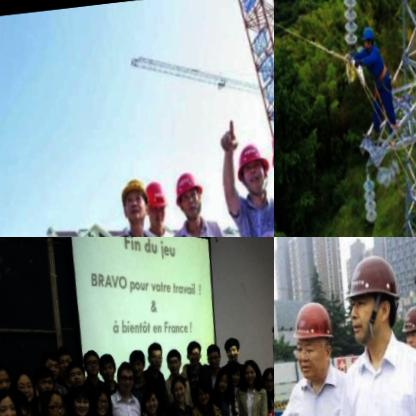head: (12, 366, 39, 404), (67, 380, 92, 416), (114, 359, 140, 392), (42, 385, 69, 416), (41, 349, 65, 383), (90, 382, 113, 416), (32, 362, 57, 393), (65, 358, 89, 390), (146, 338, 166, 372), (8, 387, 31, 416), (81, 348, 102, 379), (98, 352, 120, 381), (55, 346, 76, 376), (193, 376, 213, 407), (184, 337, 204, 366), (215, 365, 235, 394), (223, 332, 242, 361), (0, 386, 18, 416), (166, 346, 184, 376), (0, 359, 15, 394), (142, 387, 161, 413), (243, 358, 262, 384), (171, 374, 189, 401), (206, 343, 224, 368), (131, 350, 148, 376), (227, 359, 243, 383), (260, 366, 274, 393)
helmet: (340, 246, 408, 352), (286, 296, 343, 384), (231, 136, 274, 200), (171, 164, 210, 227), (118, 170, 153, 233), (142, 177, 173, 228), (399, 298, 416, 356), (359, 24, 380, 52)
